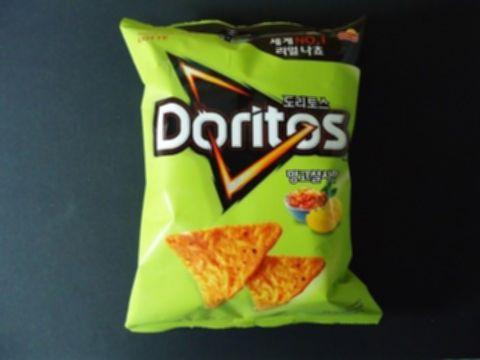snack: (119, 15, 384, 334)
